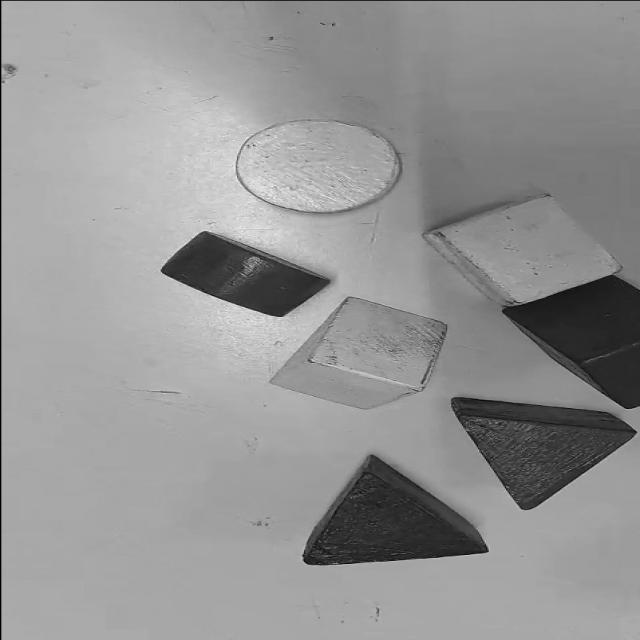btriangle: (300, 454, 488, 564)
rcircle: (162, 231, 334, 318)
rcube: (497, 276, 639, 408)
rtriangle: (450, 397, 639, 509)
ycircle: (235, 119, 404, 214)
ycube: (427, 193, 618, 304)
ytriangle: (272, 297, 447, 407)
